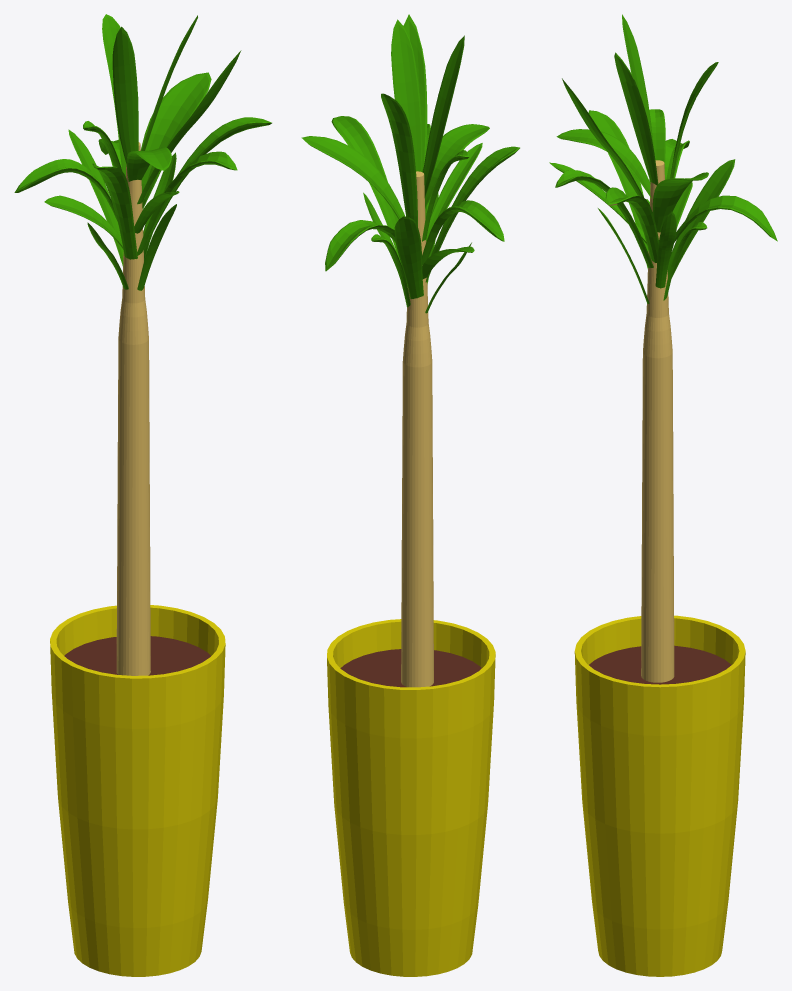
Rendered from plant.gltf.
The picture shows the model from 3 angles, left to right: view 1: azimuth 30°, elevation 25°; view 2: azimuth 150°, elevation 25°; view 3: azimuth 270°, elevation 25°; orthographic projection. The views are drawn at different scales.
Parts seen in each view (by area): view 1: Pot, Plant; view 2: Pot, Plant; view 3: Pot, Plant.
Boxes of the visible parts, box(x1,y1,x2,y2) form: Pot: box(50, 605, 225, 976); Plant: box(14, 14, 271, 675); Pot: box(327, 619, 495, 976); Plant: box(301, 14, 519, 687); Pot: box(574, 615, 745, 976); Plant: box(549, 14, 777, 682).
Size of the model in its own units: 36.21 by 150 by 33.82.
